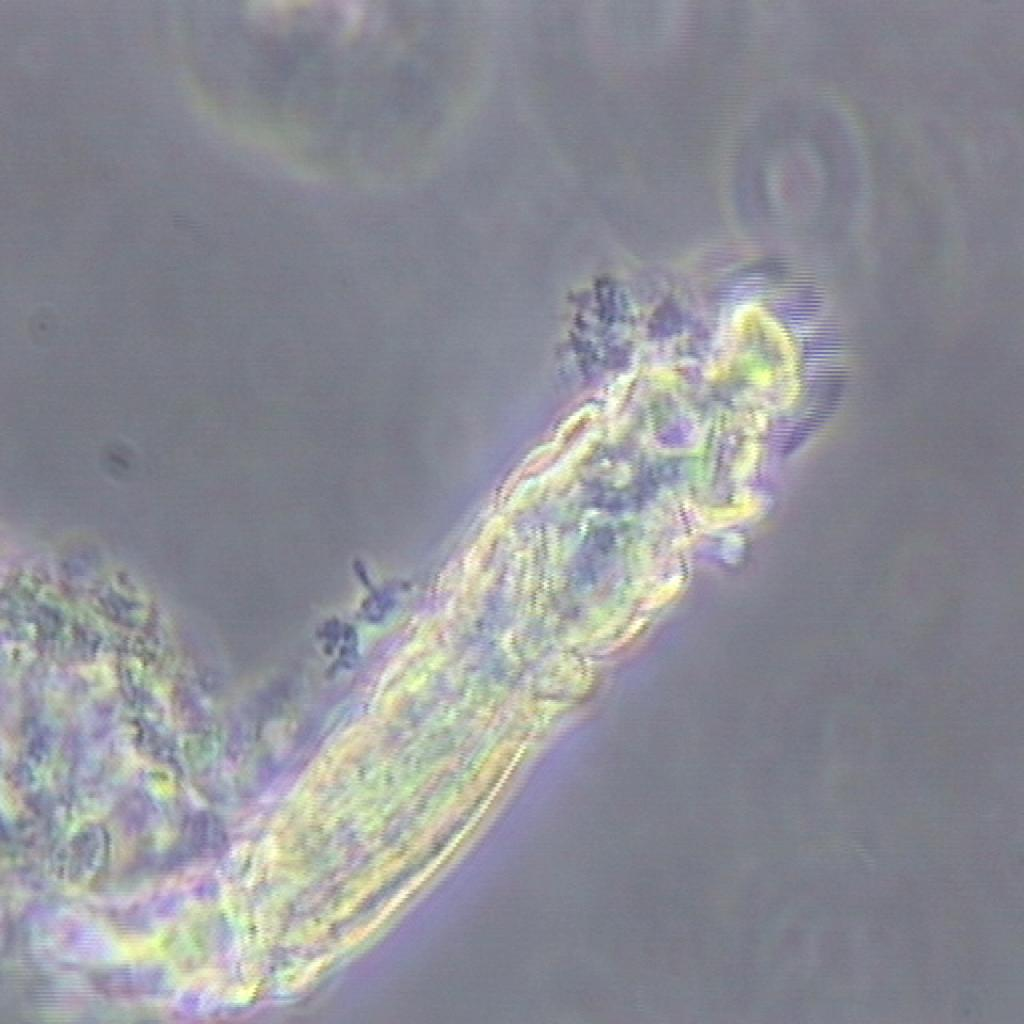Rotatoria: (152, 243, 878, 1024)
